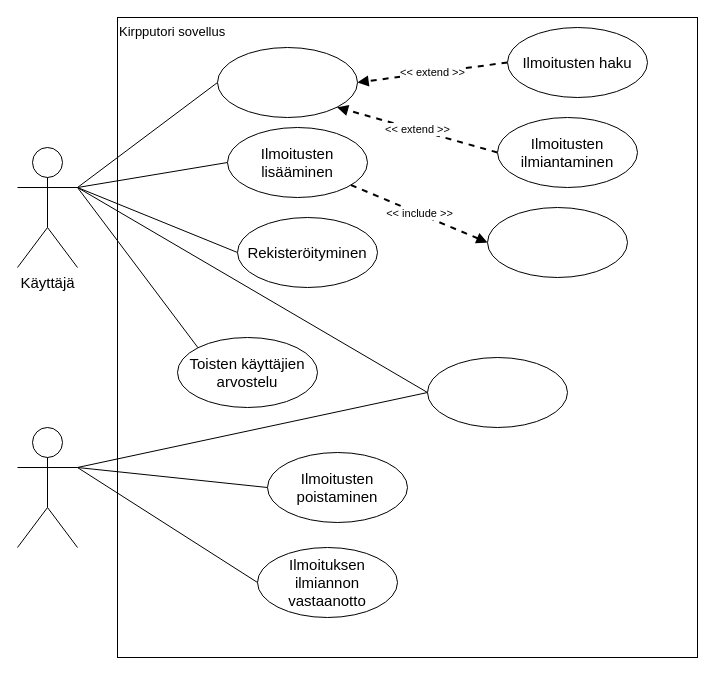
The diagram is 715 pixels wide and 675 high, and some of its shapes have lost their labels. The centre of each missing label's shape, as x and y in pixels:
"Ilmoitusten selaus" belongs at [287,82].
"Kirjautuminen" belongs at [497,392].
"Kuvan lisäys" belongs at [557,242].
"Ylläpitäjä" belongs at [47,487].
